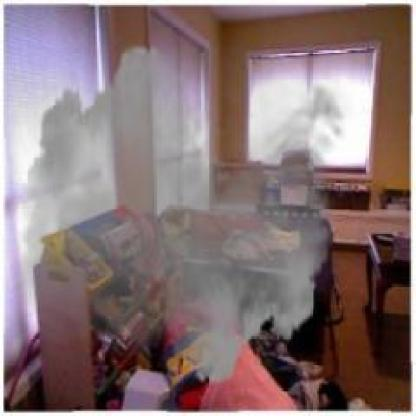Smoke: (7, 34, 357, 396)
